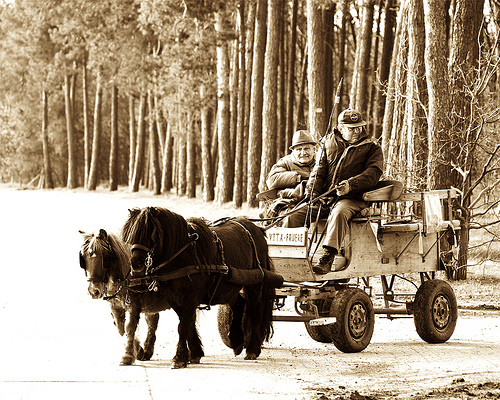horse: (120, 206, 284, 368), (77, 228, 205, 368)
